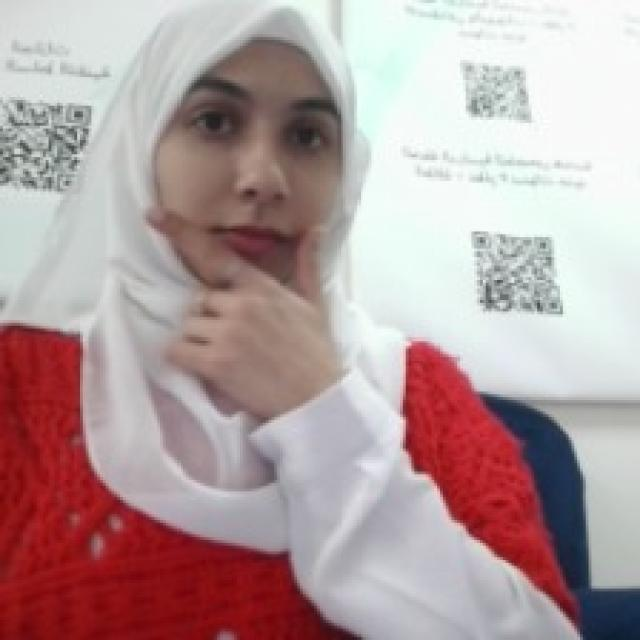smile: (134, 194, 340, 406)
